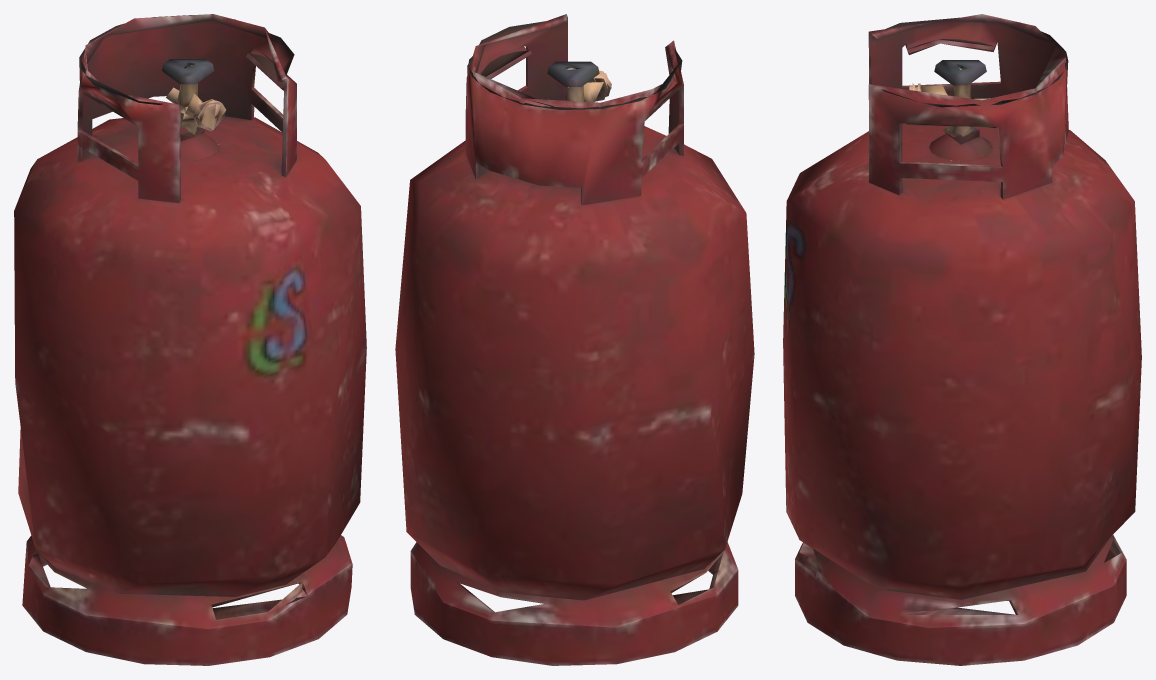
Rendered from propane_tank.glb.
The picture shows the model from 3 angles, left to right: view 1: azimuth 30°, elevation 25°; view 2: azimuth 150°, elevation 25°; view 3: azimuth 270°, elevation 25°; orthographic projection.
Parts seen in each view (by area): view 1: propane_tank; view 2: propane_tank; view 3: propane_tank.
Part boxes in pixels (x1,y1,x2,y2): propane_tank: [14, 14, 366, 665]; propane_tank: [395, 14, 754, 665]; propane_tank: [783, 14, 1141, 665].
Bounding box in the file's own units: 0.3279 × 0.5534 × 0.3341.
1 material, 1 textured.
